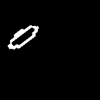chain: (8, 26, 37, 48)
